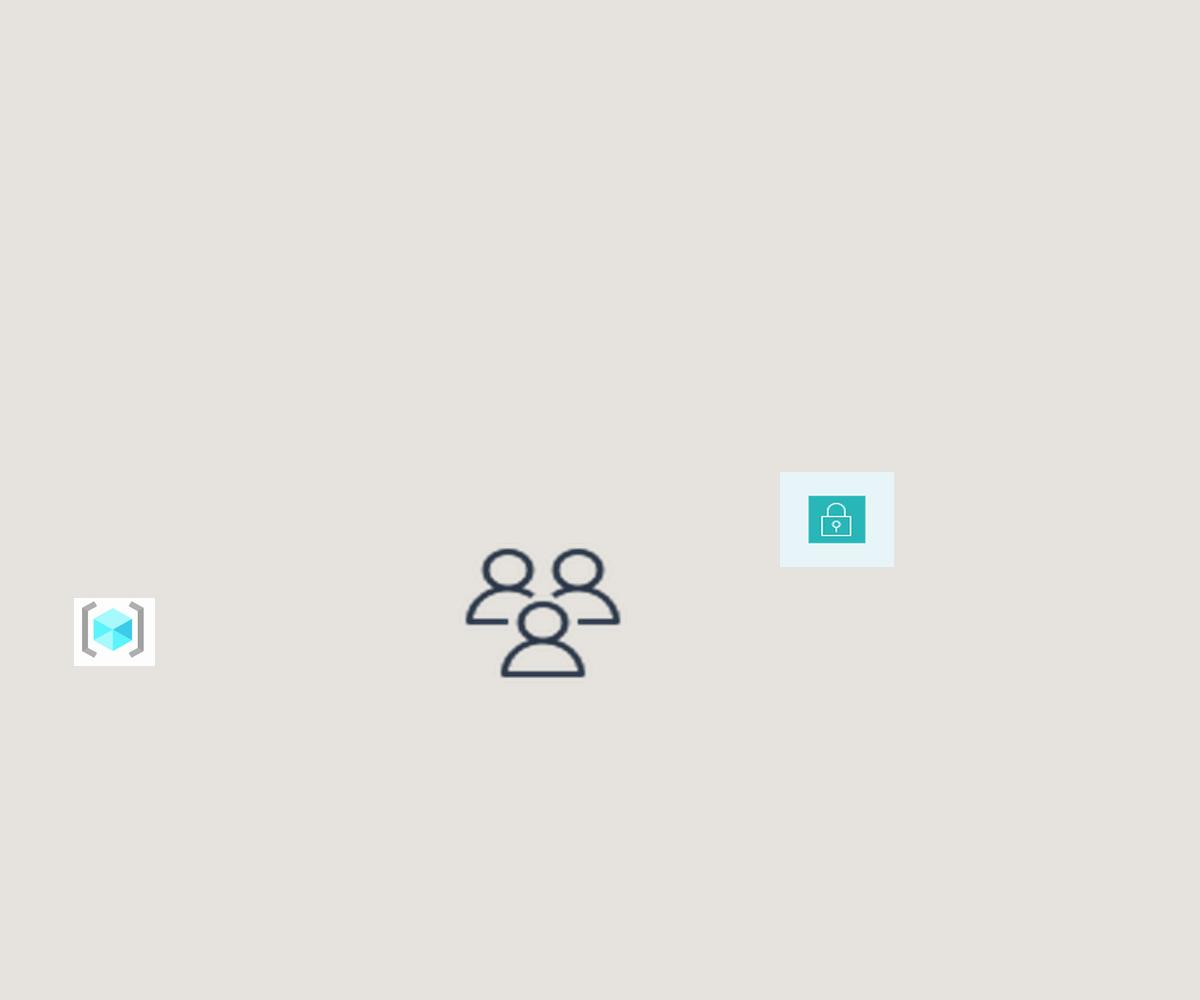AWS-Private-subnet: (780, 472, 894, 567)
AWS-Res_Users: (459, 543, 627, 683)
Azure_resource_group: (74, 598, 155, 666)
